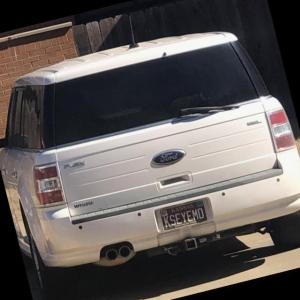Plate: (159, 200, 208, 231)
